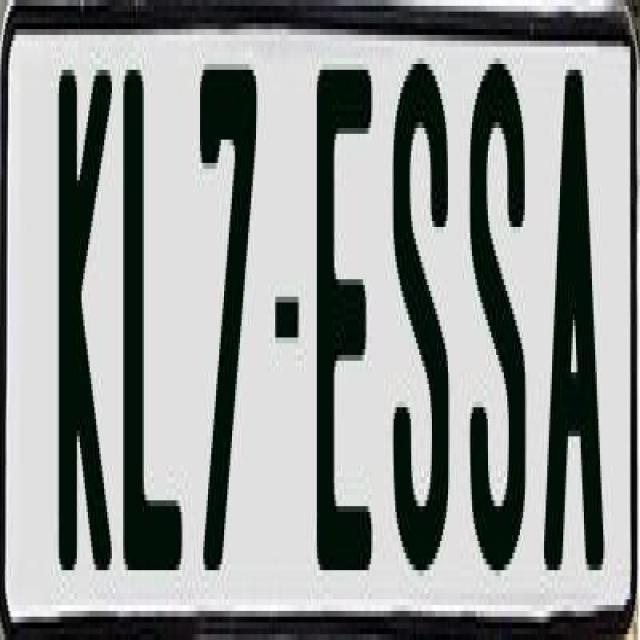7: (195, 70, 259, 594)
A: (544, 64, 605, 576)
E: (316, 70, 374, 582)
K: (58, 70, 110, 582)
L: (120, 52, 189, 582)
S: (468, 64, 532, 605), (392, 58, 448, 564)
